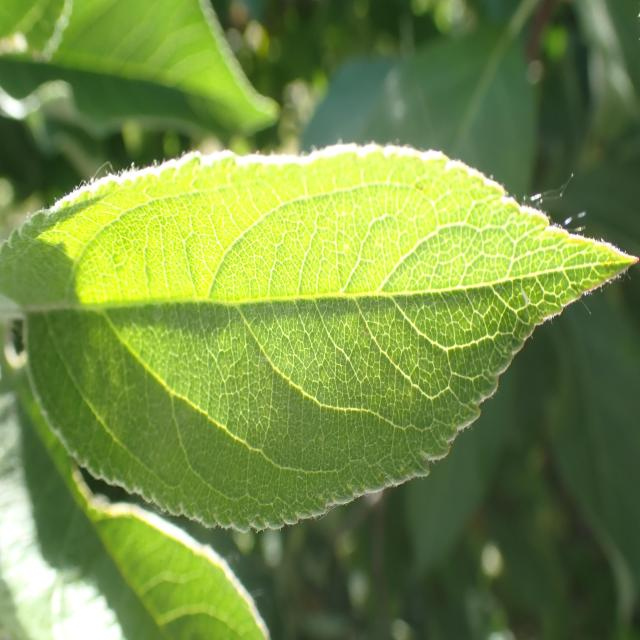healthy: (0, 139, 640, 533), (0, 356, 271, 640), (1, 0, 282, 139)
